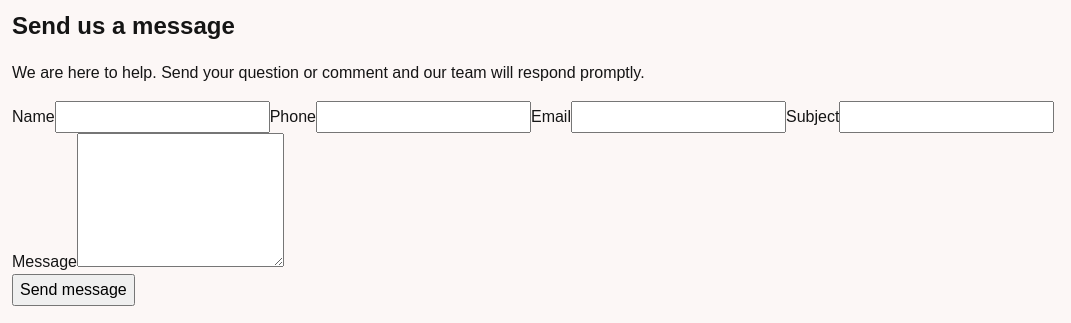
Test: ContactForm component › should show loading state while submitting
The width and height of the screenshot is (1071, 323).
In the field labelled "Name": (162, 117) [55, 101, 270, 133], type "Alice"
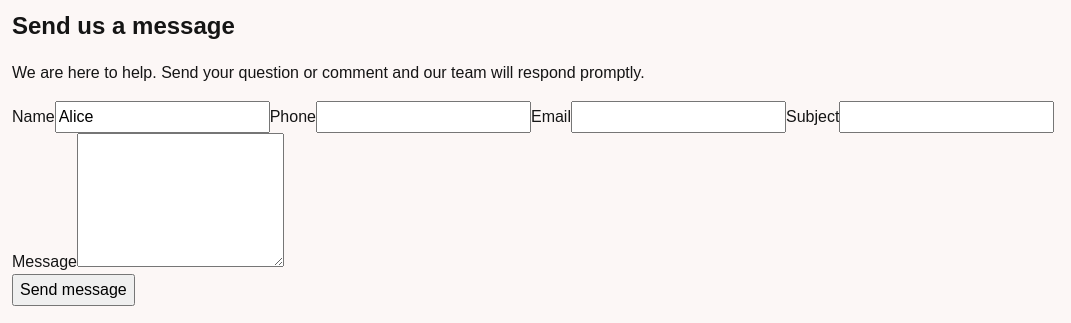
In the field labelled "Email": (678, 117) [571, 101, 786, 133], type "alice@example.com"
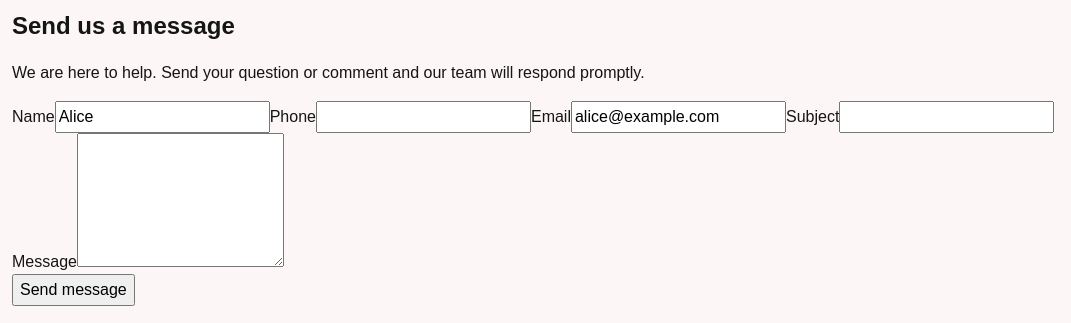
In the text box labelled "Message": (180, 200) [77, 133, 284, 267], type "Hello there"
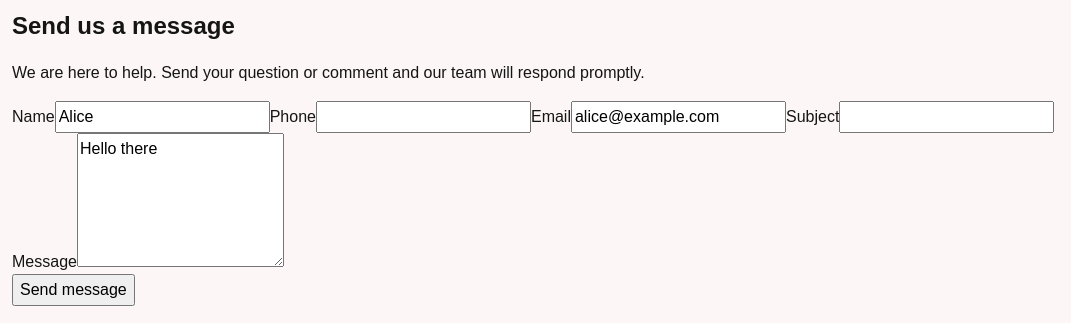
Click the button "Send message": (73, 290) [12, 274, 135, 306]
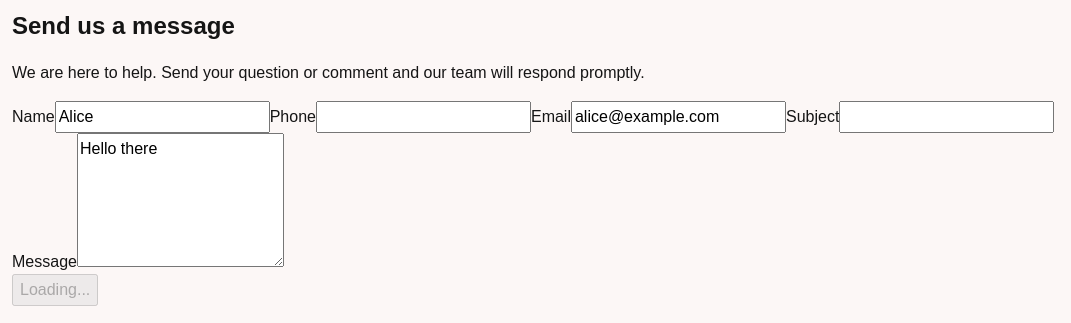
Expected: the button "Loading..." is shown, [12, 274, 98, 306]
